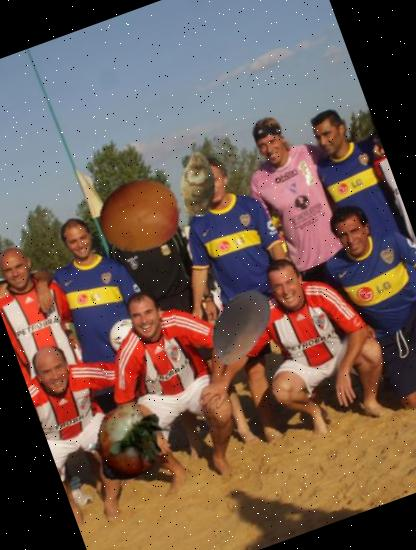Apricot: (85, 161, 193, 269)
Ginger: (156, 142, 239, 225)
Hazelnut: (185, 272, 294, 381)
Strawberry: (76, 387, 186, 496)
